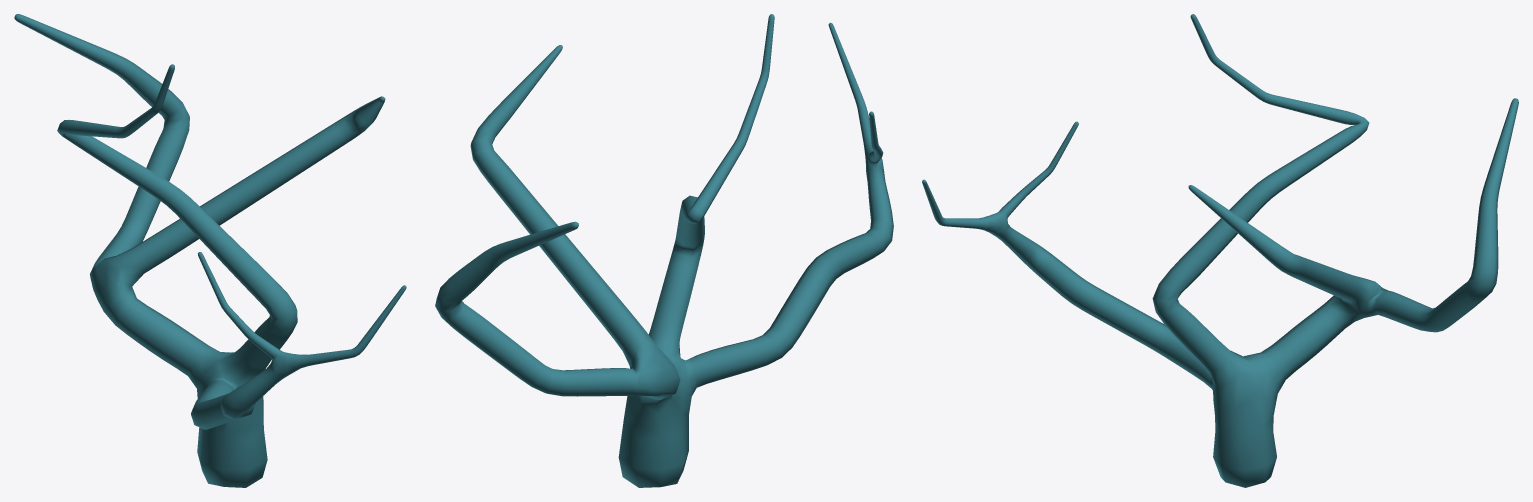
Rendered from koraalblauw.fbx.
3 renders of one model, left to right at view 1: azimuth 30°, elevation 25°; view 2: azimuth 150°, elevation 25°; view 3: azimuth 270°, elevation 25°, orthographic. The views are drawn at different scales.
Visible parts, largest first — view 1: Vert; view 2: Vert; view 3: Vert.
Boxes of the visible parts, x1,y1,x2,y2 form: Vert: (14, 14, 406, 487); Vert: (435, 14, 893, 487); Vert: (922, 14, 1518, 487).
Size of the model in its own units: 7314 by 11471 by 14436.
